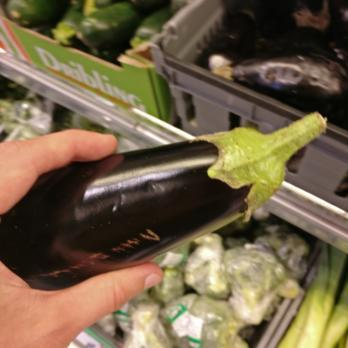Brinjal: (0, 112, 326, 290)
